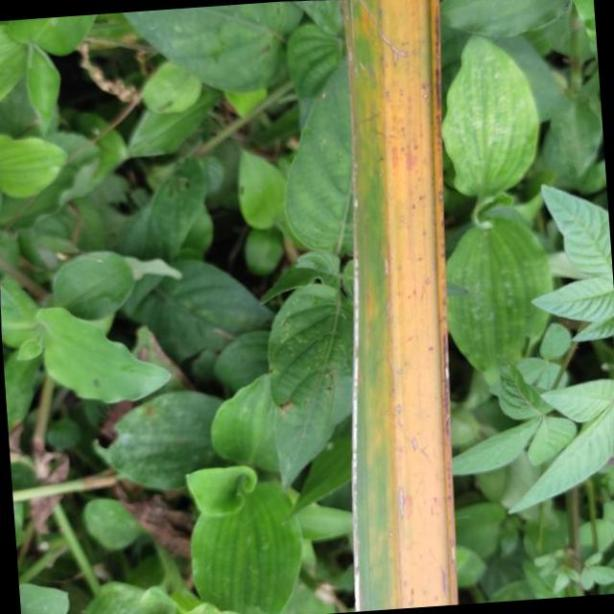Megnesium: (348, 0, 459, 614)
